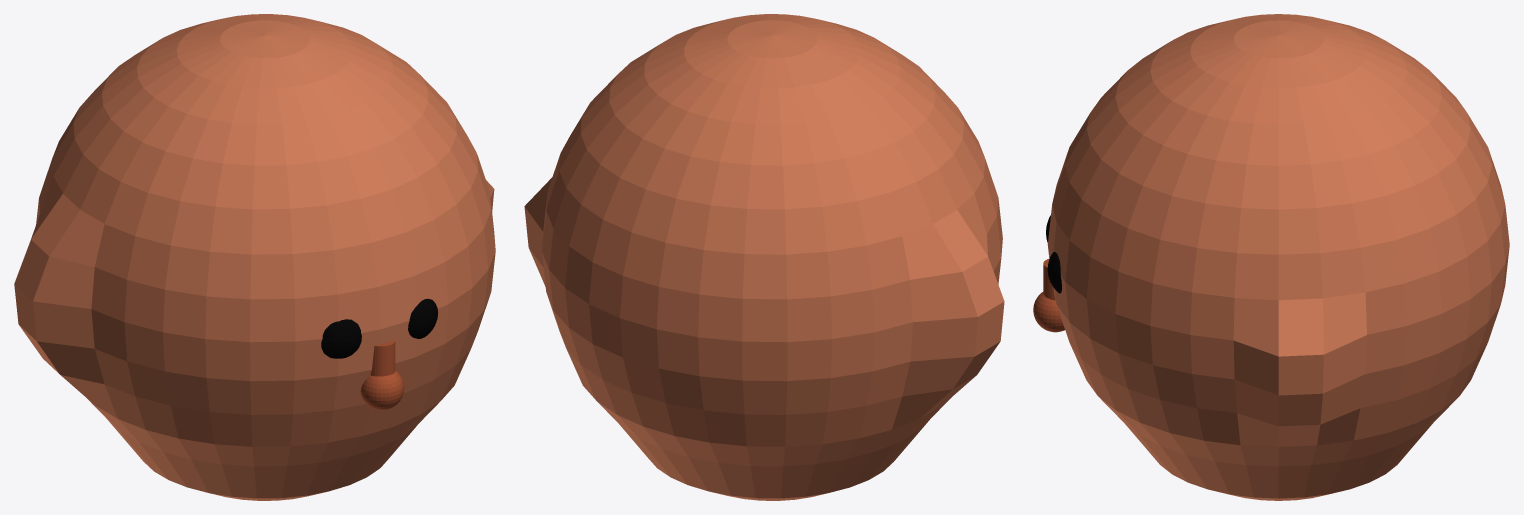
The model's file is head.obj.
3 views of the same model, side by side, from view 1: azimuth 30°, elevation 25°; view 2: azimuth 150°, elevation 25°; view 3: azimuth 270°, elevation 25° (orthographic).
Parts seen in each view (by area): view 1: Sphere, Sphere.001, Sphere.003, Cylinder; view 2: Sphere; view 3: Sphere, Sphere.003, Sphere.001.
Boxes of the visible parts, x1,y1,x2,y2 form: Sphere: [14, 14, 495, 500]; Sphere.001: [321, 298, 437, 358]; Sphere.003: [360, 370, 404, 410]; Cylinder: [370, 340, 395, 376]; Sphere: [524, 14, 1004, 500]; Sphere: [1047, 14, 1509, 500]; Sphere.003: [1033, 292, 1064, 332]; Sphere.001: [1046, 215, 1061, 293].
Bounding box in the file's own units: 2.31 × 2.12 × 2.06.
